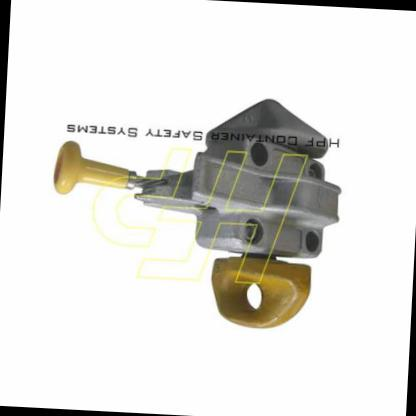Twistlock: (42, 84, 350, 342)
